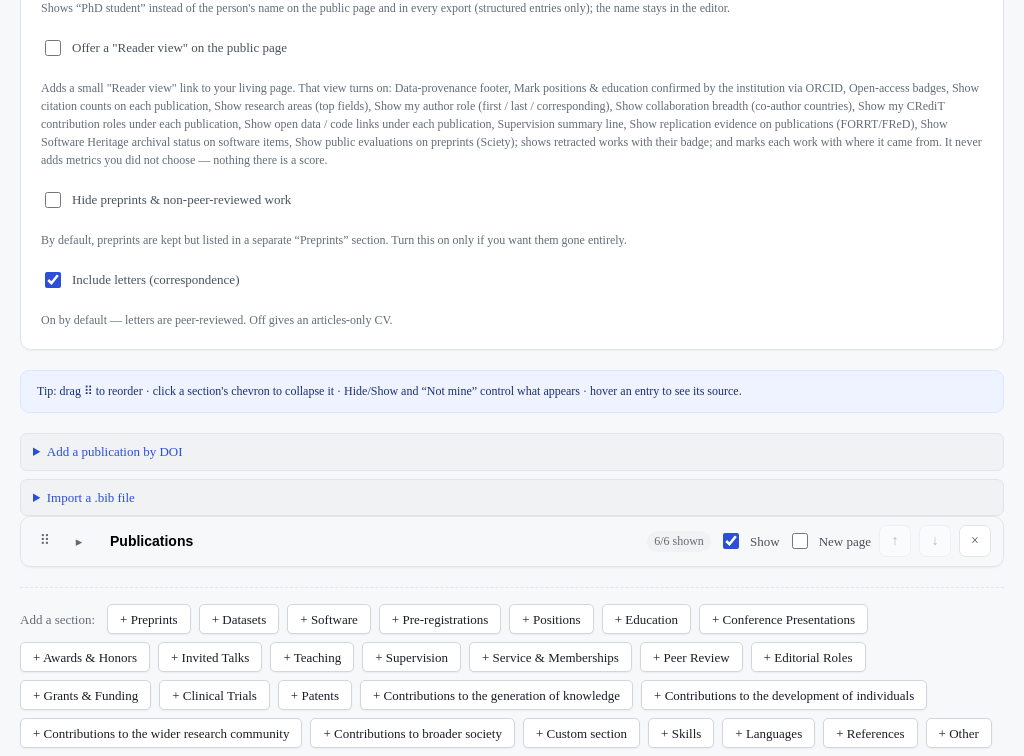
Test: bulk curation (component) › year bounds filter the list
(page scrolled)
Click the button with class "section-toggle" at (79, 541), box [65,527,93,555]
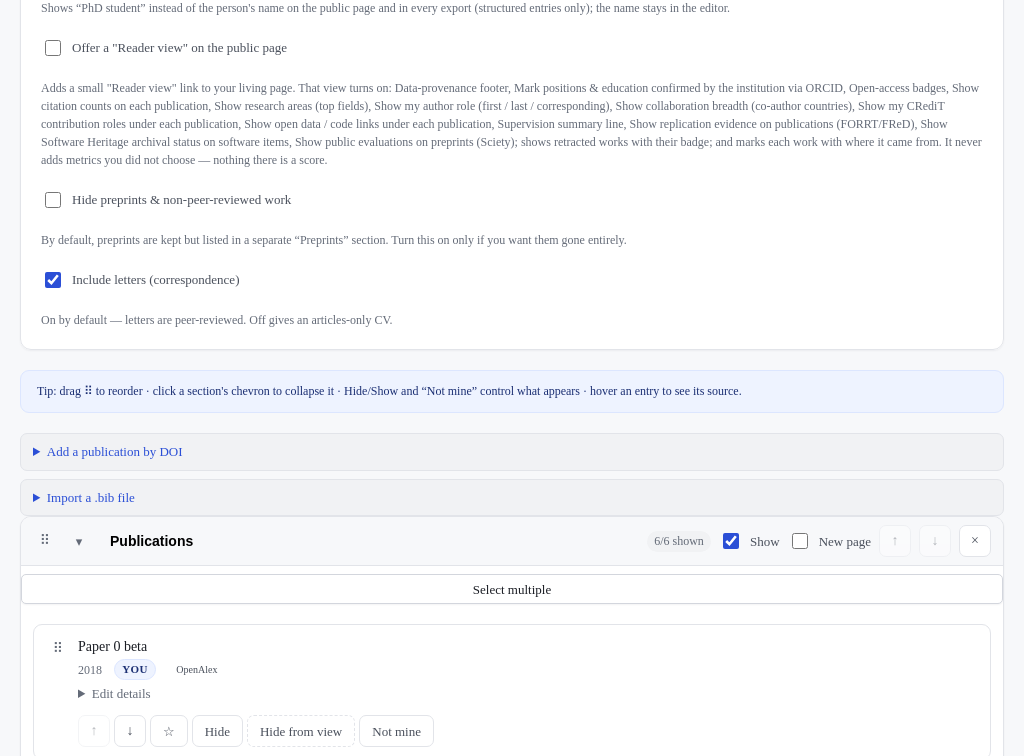
Click the button "Select multiple" at (512, 589), box [21,574,1003,604]
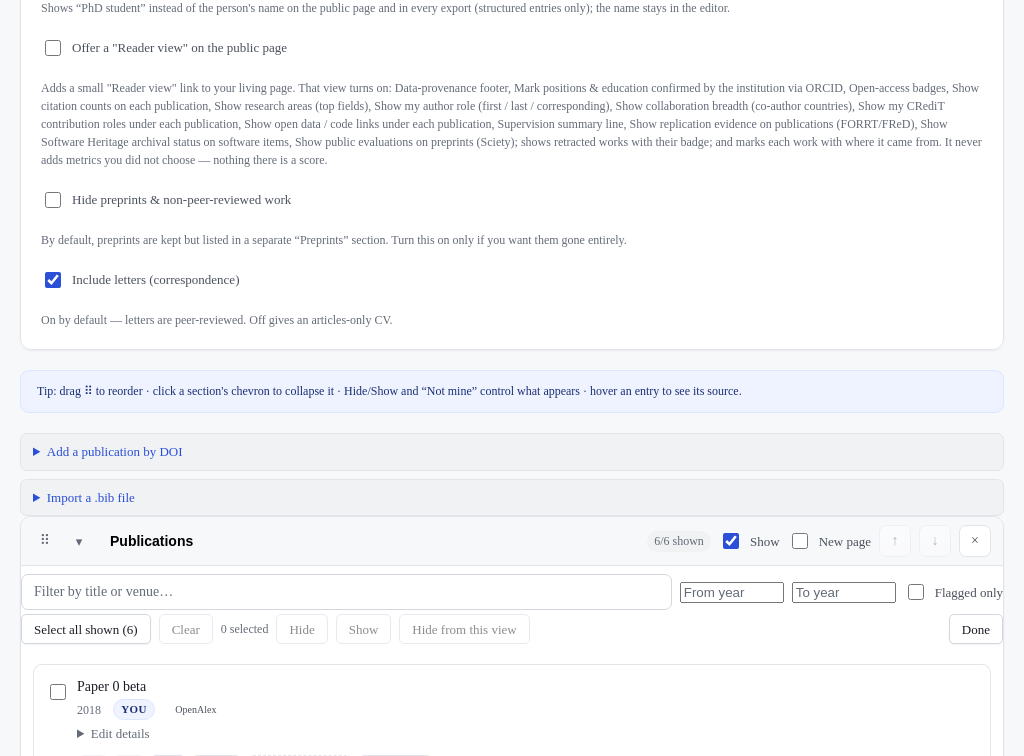
Type "2021" into the number field labelled "From year" at (732, 592), box [680,582,784,603]
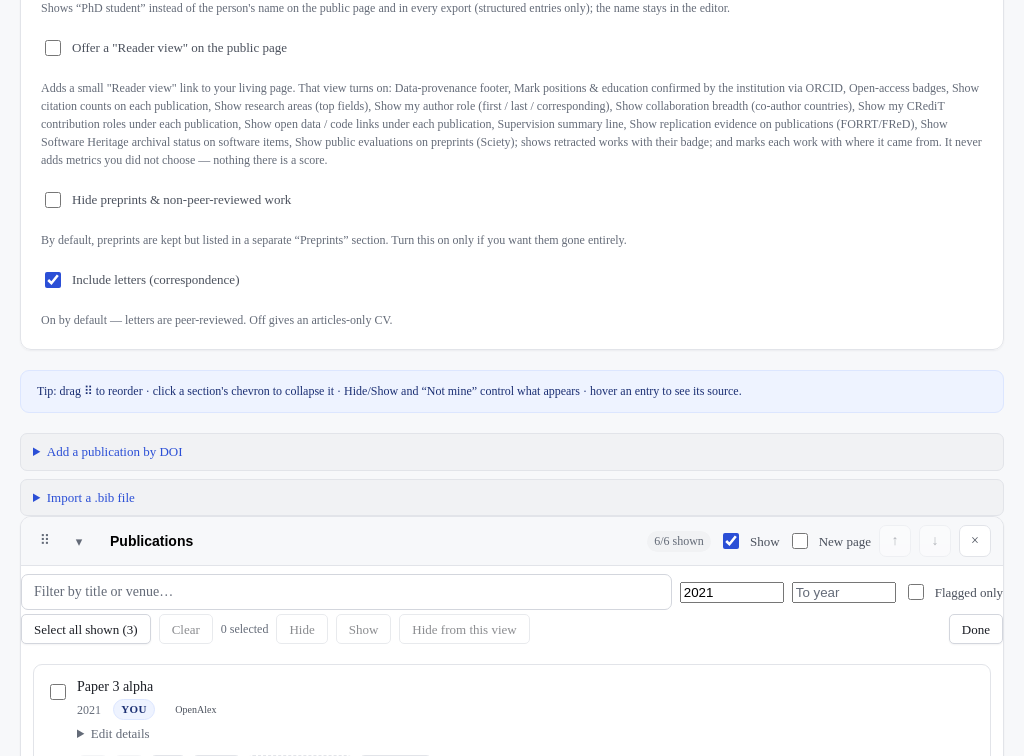
Check: the button "Select all shown (3)" is shown, box [21,614,151,644]
